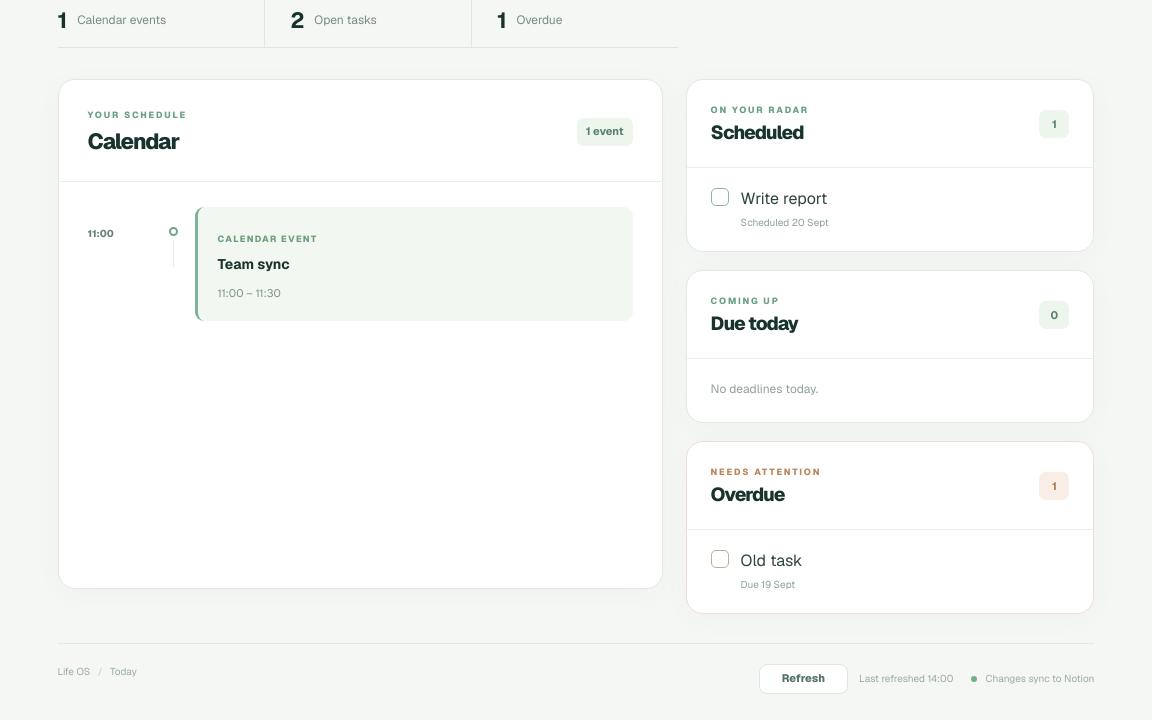
Test: Dashboard refresh › swaps in fresh data on a successful refresh
This screenshot has width=1152, height=720.
(page scrolled)
Click the button "Refresh".
click(803, 679)  # box [759,664,848,694]
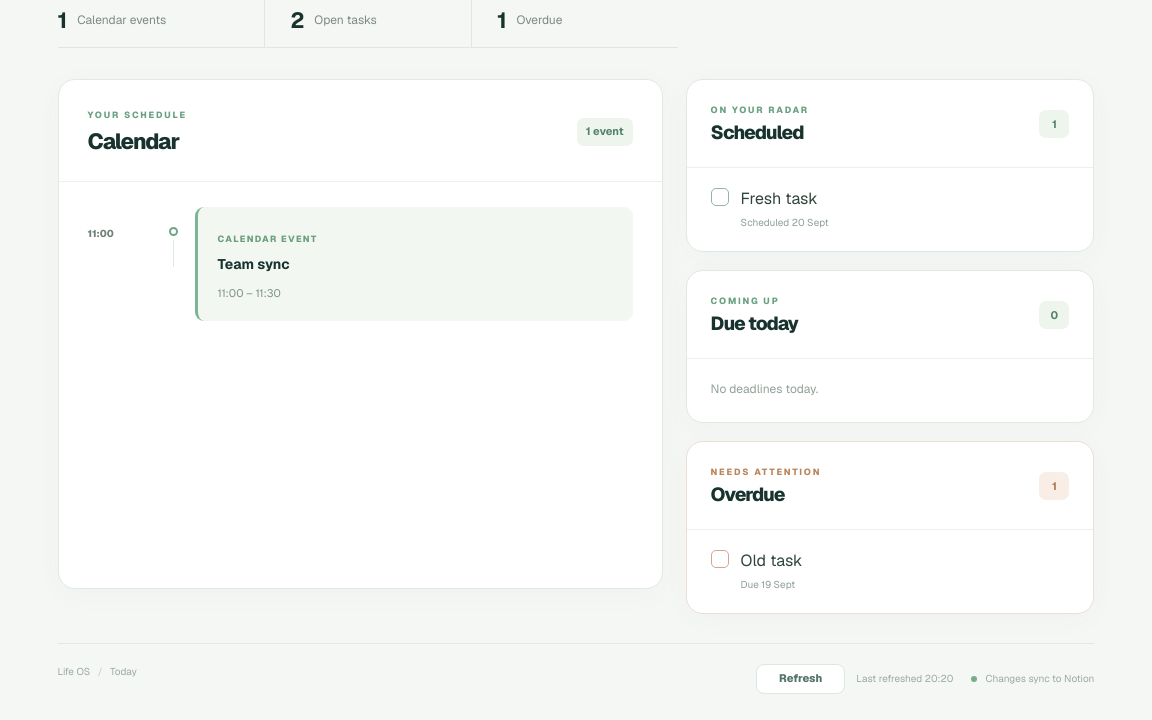
Check: the button "Fresh task" is shown, box [741,187,829,211]
Check: the button "Write report" is gone
